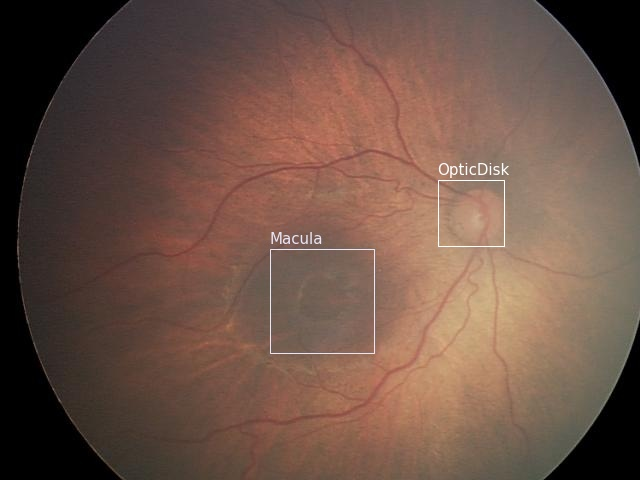Macula: (269, 248, 373, 352)
OpticDisk: (437, 179, 503, 245)
